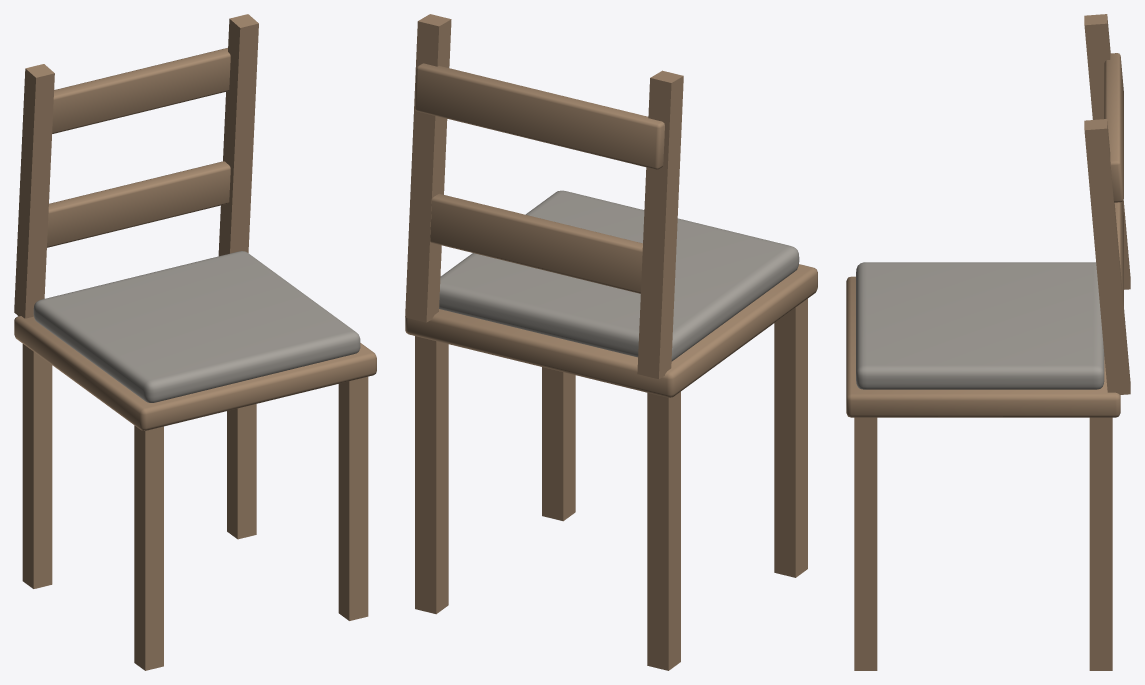
Rendered from chair.glb.
3 renders of one model, left to right at view 1: azimuth 30°, elevation 25°; view 2: azimuth 150°, elevation 25°; view 3: azimuth 270°, elevation 25°, orthographic. The views are drawn at different scales.
Visible parts, largest first — view 1: Cube.001, Cube, Cube.008, Cube.009, Cube.004, Cube.005, Cube.003, Cube.002, Cube.007, Cube.006; view 2: Cube.001, Cube, Cube.009, Cube.008, Cube.004, Cube.003, Cube.006, Cube.002, Cube.007, Cube.005; view 3: Cube.001, Cube, Cube.007, Cube.005, Cube.006, Cube.004, Cube.009, Cube.008.
Boxes of the visible parts, left/top/right/bottom form: Cube.001: left=33, top=251, right=360, bottom=402; Cube: left=14, top=316, right=376, bottom=430; Cube.008: left=47, top=161, right=230, bottom=247; Cube.009: left=52, top=48, right=230, bottom=133; Cube.004: left=14, top=64, right=54, bottom=318; Cube.005: left=338, top=376, right=368, bottom=620; Cube.003: left=22, top=344, right=52, bottom=588; Cube.002: left=134, top=425, right=163, bottom=670; Cube.007: left=218, top=14, right=258, bottom=256; Cube.006: left=227, top=404, right=256, bottom=539; Cube.001: left=439, top=190, right=799, bottom=361; Cube: left=405, top=264, right=817, bottom=397; Cube.009: left=415, top=63, right=664, bottom=169; Cube.008: left=430, top=193, right=642, bottom=293; Cube.004: left=637, top=70, right=683, bottom=379; Cube.003: left=647, top=391, right=680, bottom=670; Cube.006: left=415, top=336, right=448, bottom=614; Cube.002: left=774, top=299, right=807, bottom=577; Cube.007: left=405, top=14, right=451, bottom=322; Cube.005: left=542, top=367, right=575, bottom=521; Cube.001: left=856, top=262, right=1104, bottom=389; Cube: left=846, top=276, right=1120, bottom=417; Cube.007: left=1084, top=119, right=1130, bottom=394; Cube.005: left=854, top=417, right=877, bottom=670; Cube.006: left=1089, top=417, right=1112, bottom=670; Cube.004: left=1084, top=14, right=1130, bottom=289; Cube.009: left=1104, top=53, right=1123, bottom=202; Cube.008: left=1114, top=201, right=1123, bottom=305.
Size of the model in its own units: 0.44 by 0.9157 by 0.4354.
